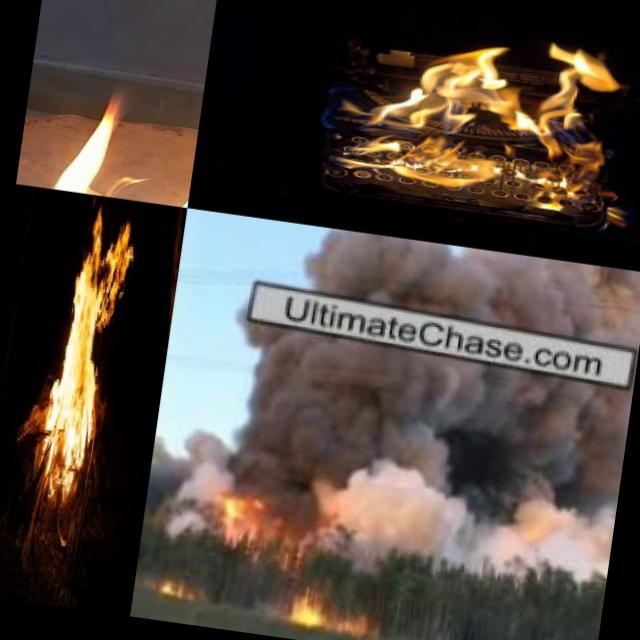fire: (312, 3, 640, 230), (46, 0, 217, 208), (30, 197, 141, 517), (272, 567, 384, 640), (203, 472, 263, 542), (144, 559, 210, 608)
smoke: (256, 348, 632, 598)
